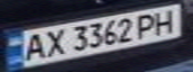2: (115, 15, 139, 43)
3: (66, 22, 90, 52), (84, 20, 106, 50)
6: (103, 17, 124, 46)
A: (18, 30, 51, 62)
H: (148, 7, 181, 35)
P: (133, 11, 163, 39)
X: (39, 27, 69, 58)
